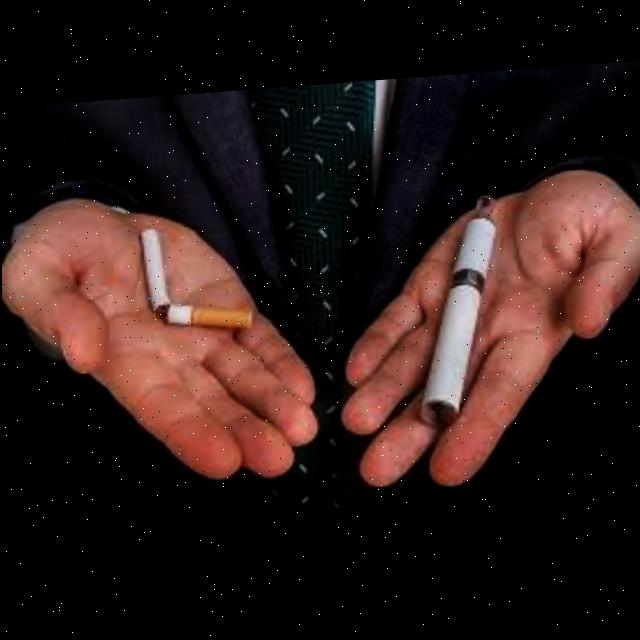cigarette: (162, 301, 254, 337), (137, 229, 170, 324)
vape: (417, 197, 495, 436)
